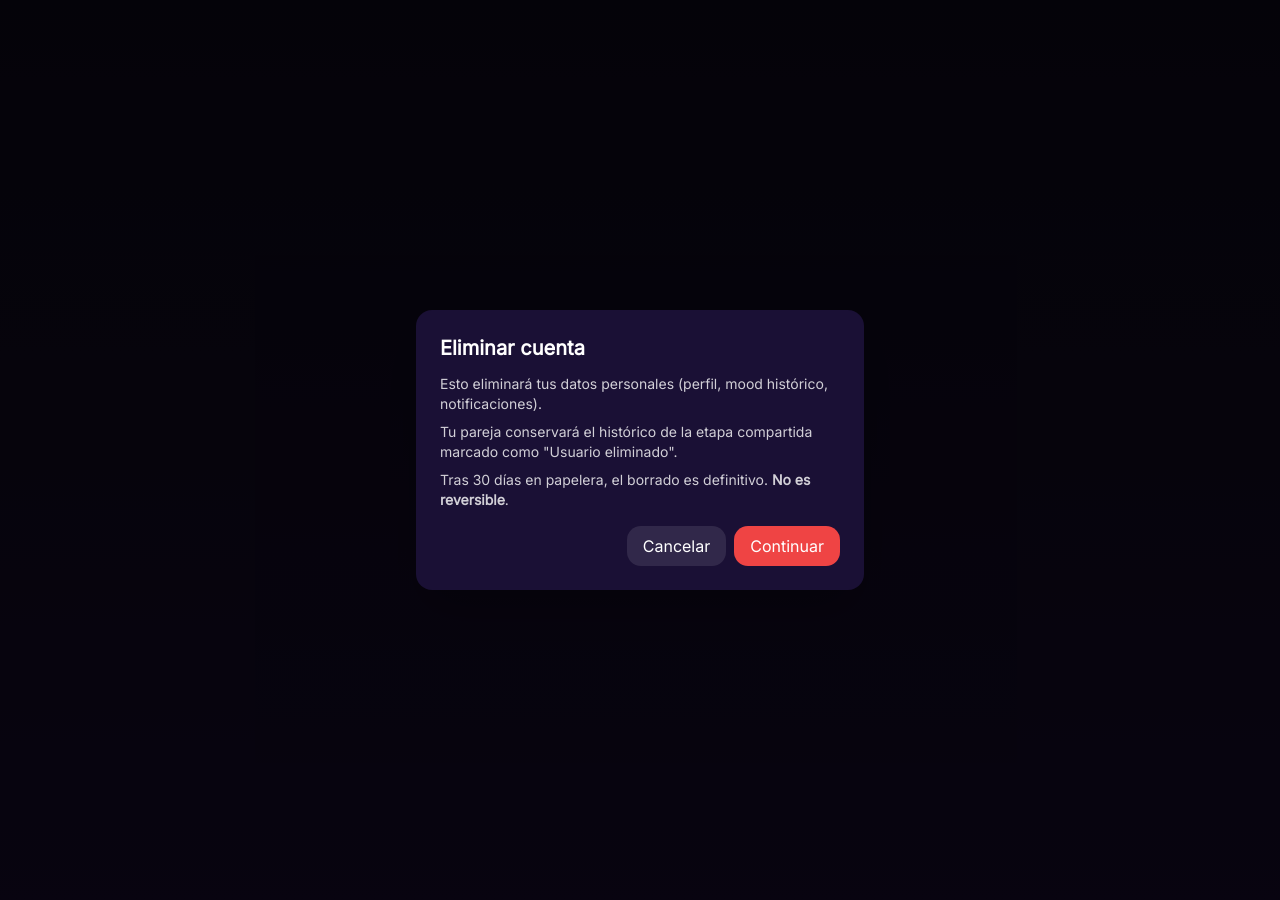
DeleteAccountWizard › botón Enviar código deshabilitado sin password
The width and height of the screenshot is (1280, 900).
Step 1. Click the button with test id "btn-step1-continue" → (787,546), box [734, 526, 840, 566]
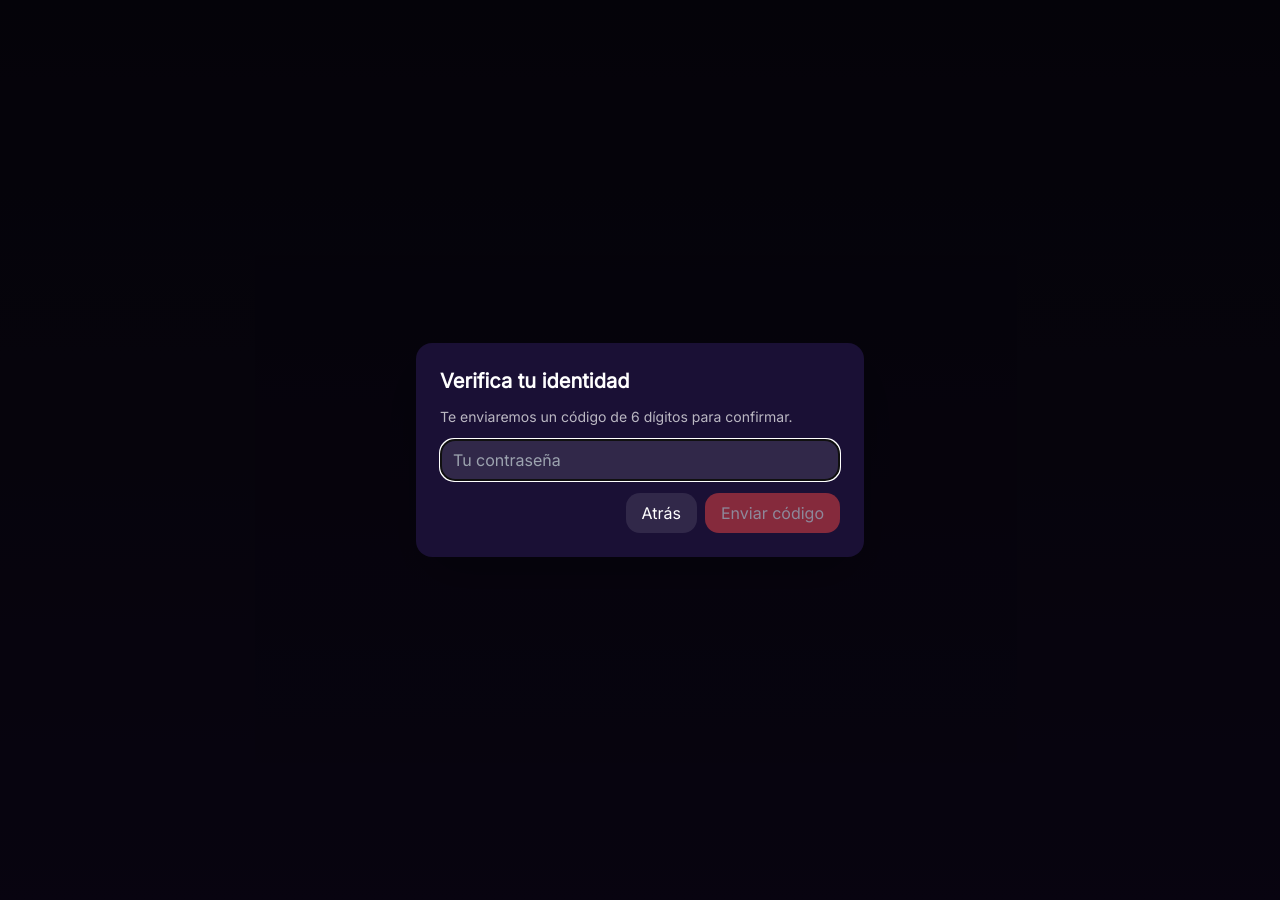
Expected: the button with test id "btn-step2-send-code" is disabled, [705, 493, 840, 533]
